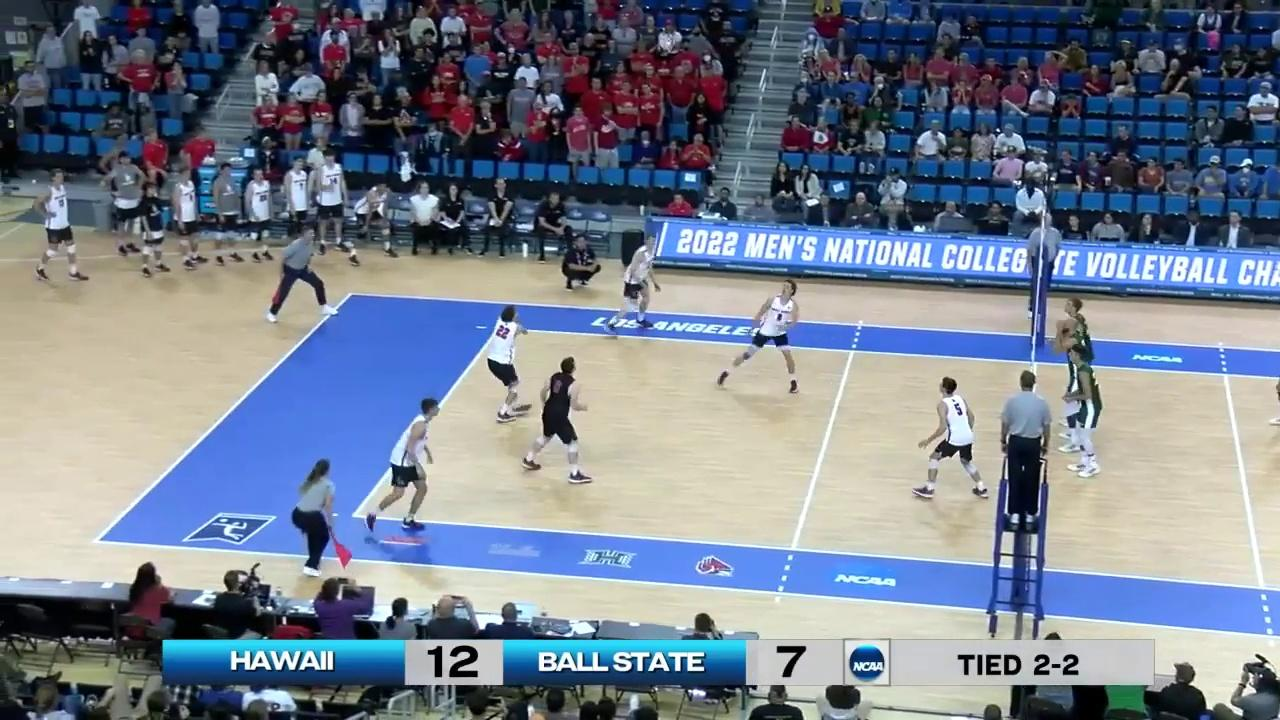player: (360, 397, 439, 535), (716, 280, 798, 392), (914, 376, 987, 498), (521, 356, 589, 482), (479, 306, 530, 421), (1065, 338, 1103, 480), (604, 239, 662, 331), (1060, 293, 1099, 414), (1054, 319, 1089, 453)
refree: (999, 370, 1049, 528), (266, 228, 341, 320), (290, 457, 342, 573), (1027, 214, 1059, 316)
